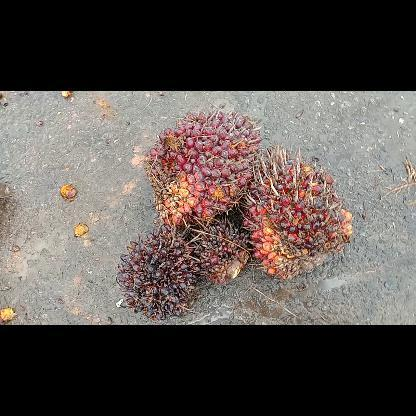TBS abnormal: (113, 224, 204, 320), (193, 217, 255, 287)
TBS masak: (240, 139, 354, 281), (142, 108, 264, 230)
